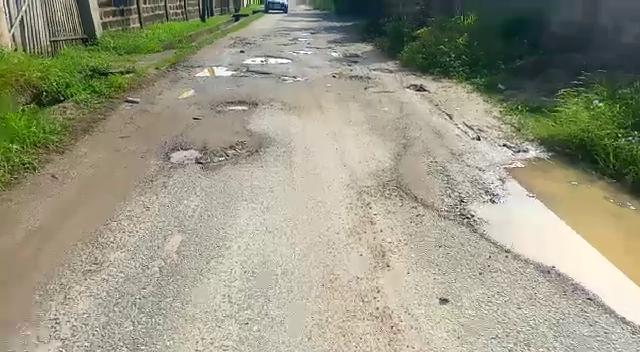pothole: (458, 153, 638, 327), (167, 146, 250, 166), (178, 64, 237, 77), (242, 54, 294, 65), (214, 101, 256, 112)
